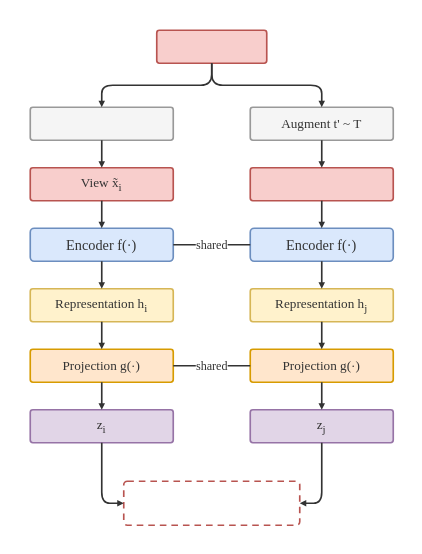
Image size: 422x554. Some labels were removed from this diagram. Each missing label, with the centre of its shape:
Augment t ~ T: the point at 101,123
Input x: the point at 211,46
NT-Xent loss maximise agreement: the point at 211,503
View x̃ j: the point at 321,183
